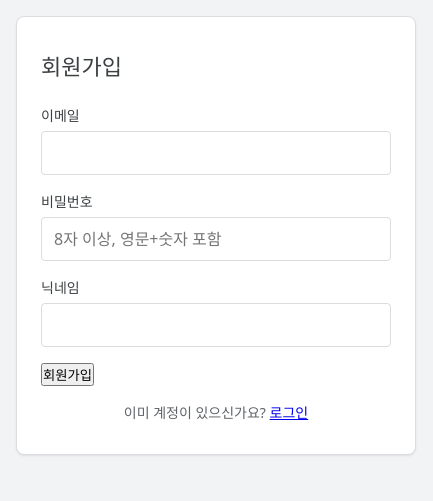
it: SignupPage › 400 오류 시 서버 메시지 표시
In the field labelled "이메일": point(216, 153) x1=41 y1=131 x2=391 y2=175, type "test@test.com"
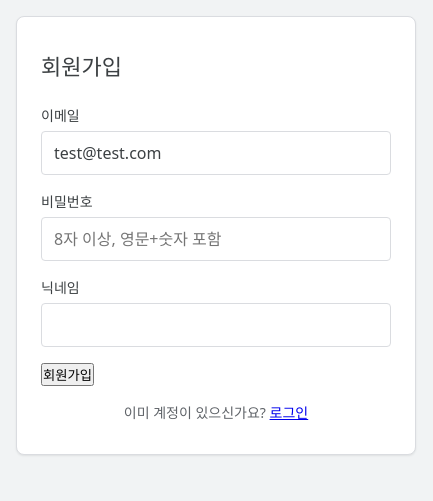
In the password field labelled "비밀번호": point(216, 239) x1=41 y1=217 x2=391 y2=261, type "weak"
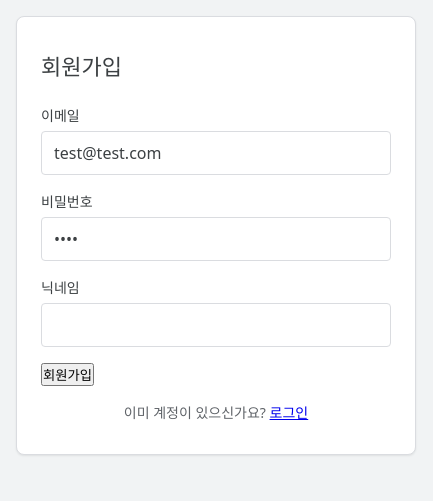
In the field labelled "닉네임": point(216, 325) x1=41 y1=303 x2=391 y2=347, type "테스트"
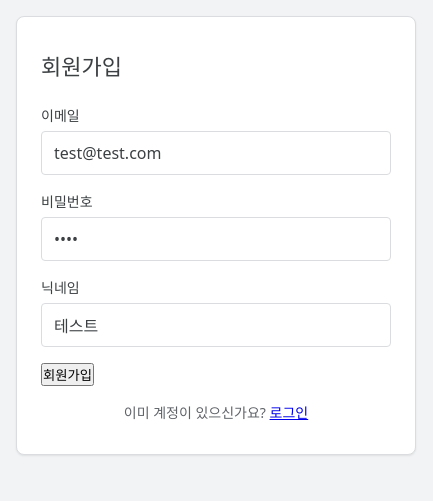
Click the button "회원가입": point(68, 374) x1=41 y1=363 x2=94 y2=386
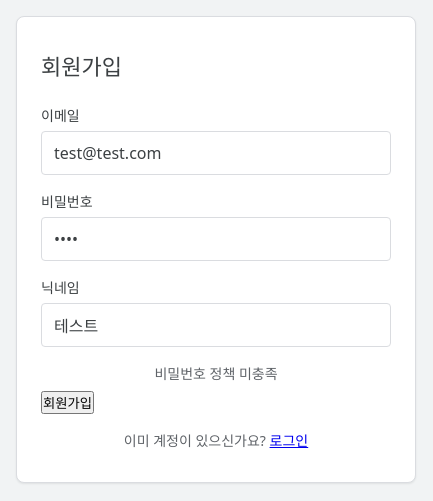
Expected: the text "비밀번호 정책 미충족" is shown, x1=154 y1=364 x2=278 y2=383
